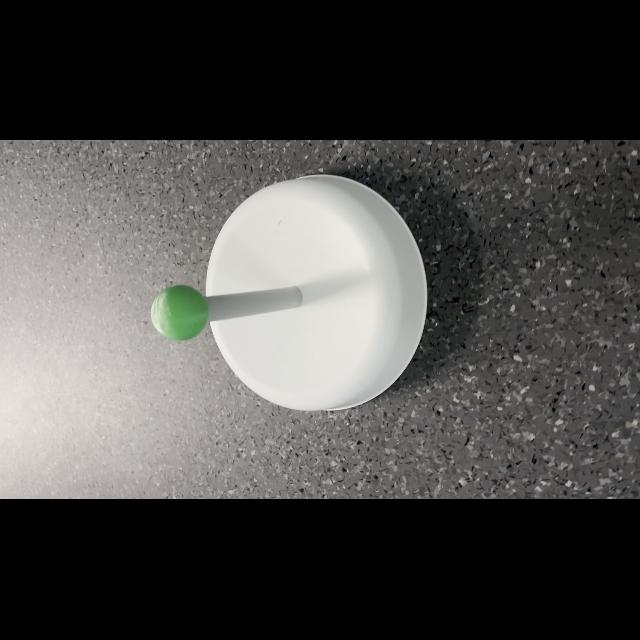objects: (146, 282, 210, 344)
